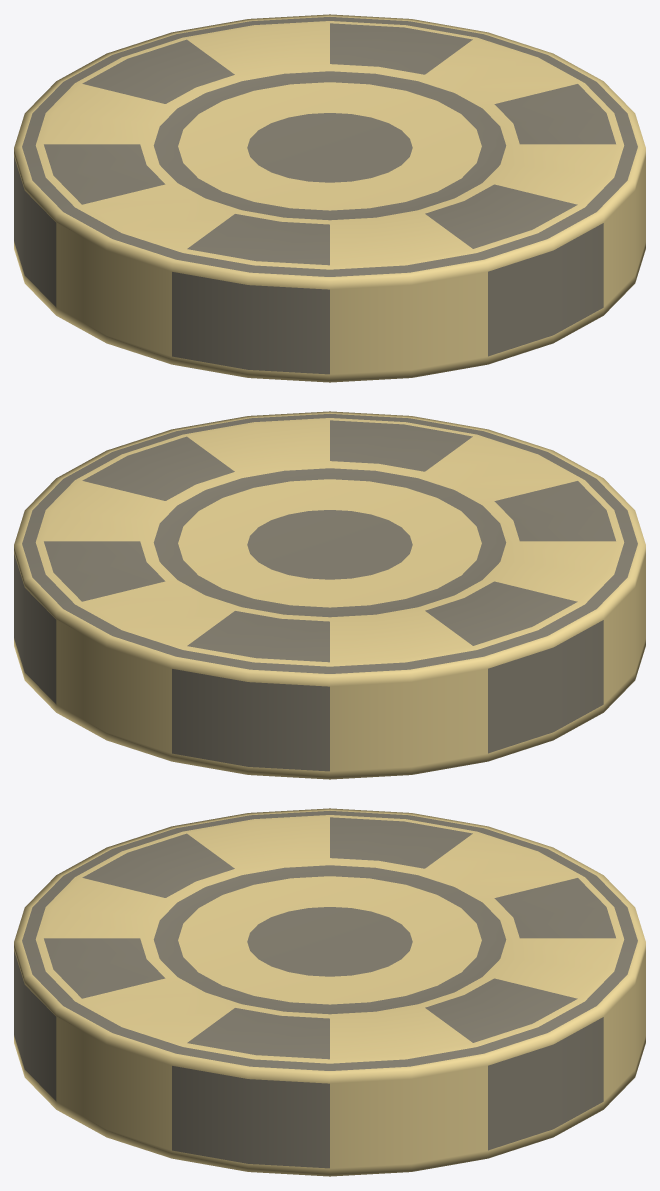
Rendered from chip_yellow.fbx.
3 views of the same model, one above another, from view 1: azimuth 30°, elevation 25°; view 2: azimuth 150°, elevation 25°; view 3: azimuth 270°, elevation 25° (orthographic).
Visible parts, largest first — view 1: Chip.004; view 2: Chip.004; view 3: Chip.004.
Part boxes in pixels (x1=…): Chip.004: x1=14, y1=14, x2=645, y2=382; Chip.004: x1=14, y1=411, x2=645, y2=779; Chip.004: x1=14, y1=808, x2=645, y2=1176.
Size of the model in its own units: 3.68 by 0.6969 by 3.68.
